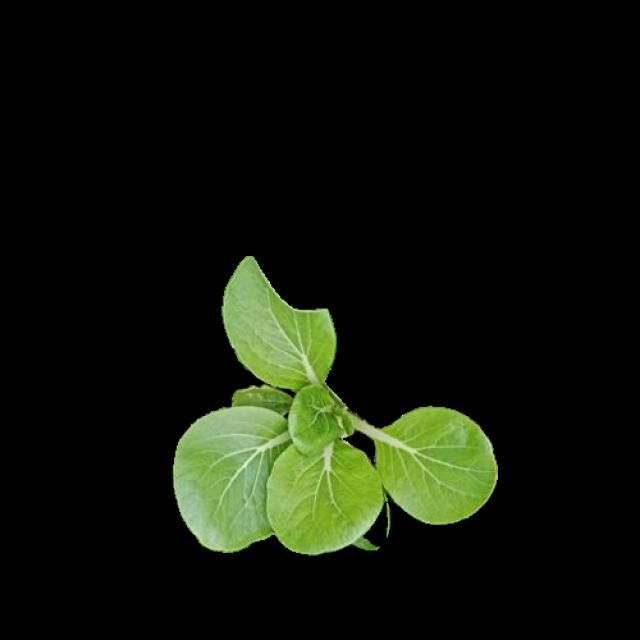healthy: (172, 255, 496, 550)
not-mature: (174, 257, 498, 553)
